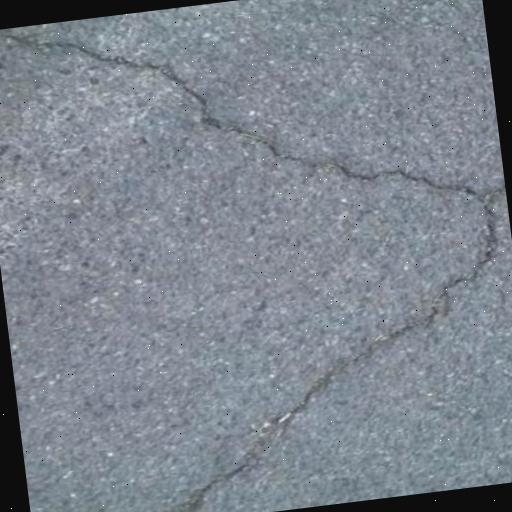spalling: (1, 23, 510, 512)
